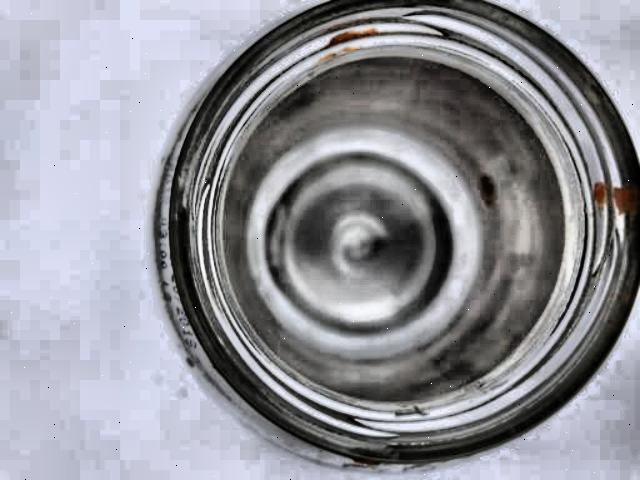Almennt: (142, 0, 640, 468)
